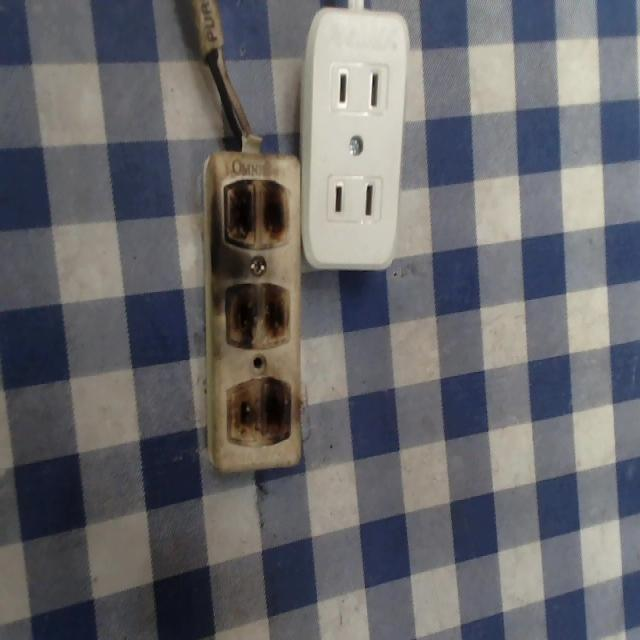-: (221, 172, 295, 252), (215, 375, 295, 449), (219, 277, 295, 348)
